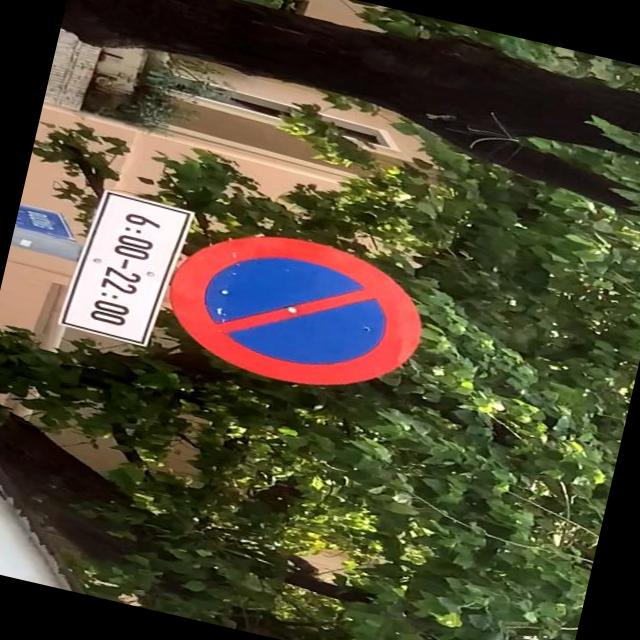P-131a: (154, 212, 436, 410)
